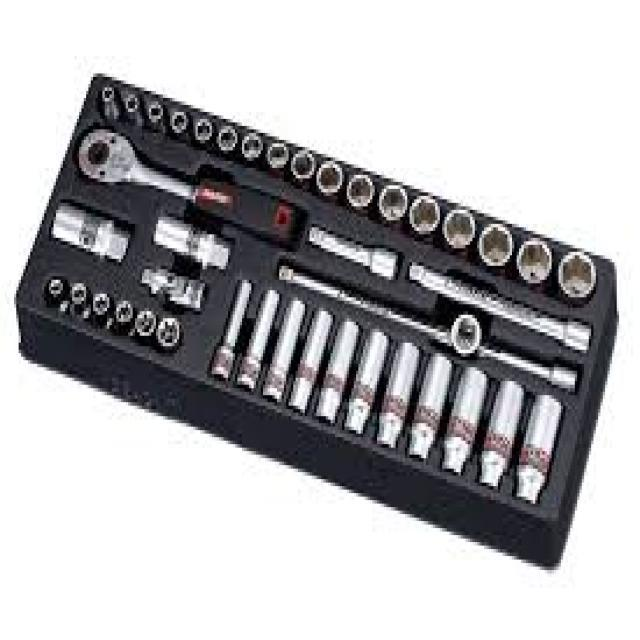wrench: (72, 122, 296, 232)
